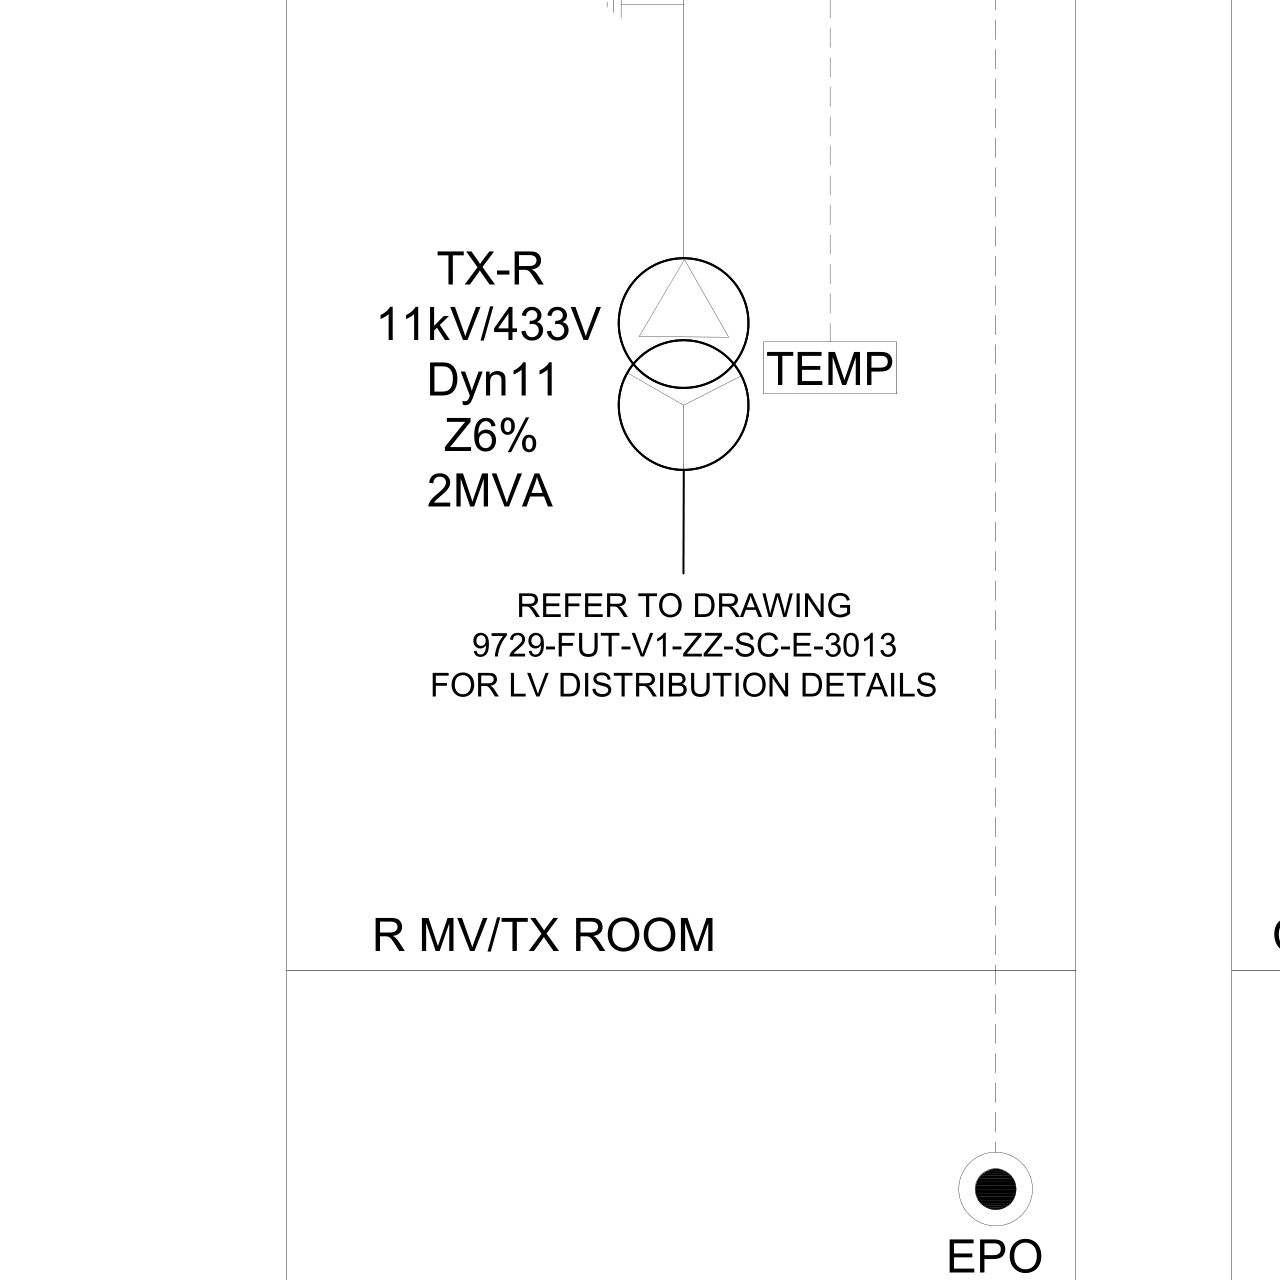Transformer: (608, 250, 756, 479)
